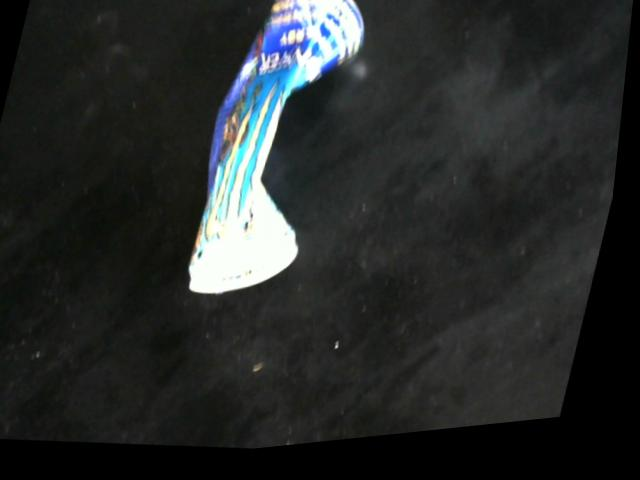can: (189, 0, 374, 303)
